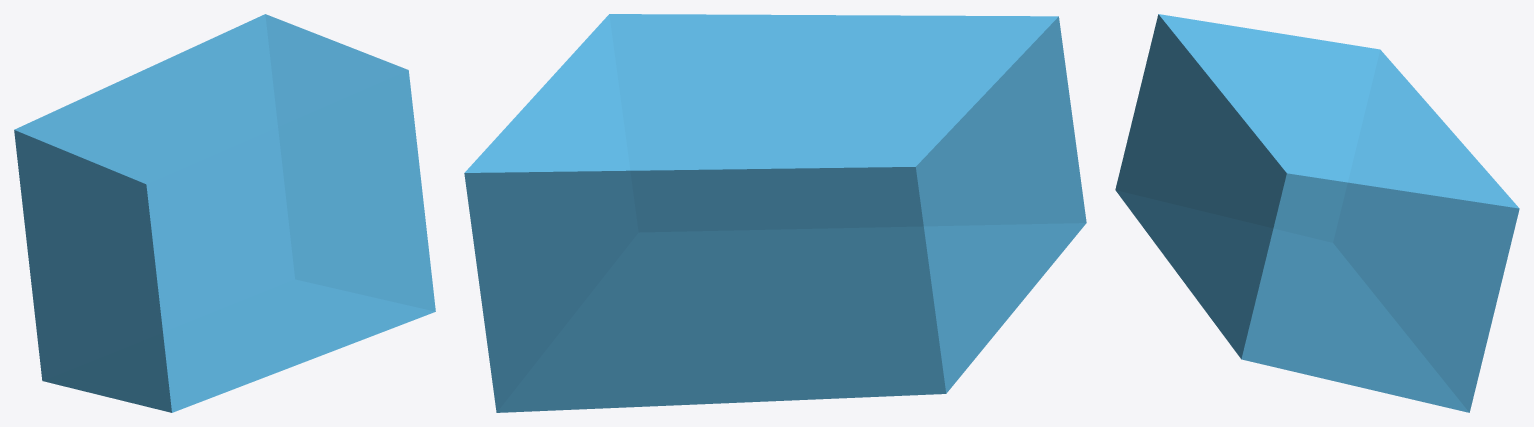
The model's file is Event_420604493_HErechit_38.fbx.
The picture shows the model from 3 angles, left to right: view 1: azimuth 30°, elevation 25°; view 2: azimuth 150°, elevation 25°; view 3: azimuth 270°, elevation 25°; orthographic projection. The views are drawn at different scales.
Parts seen in each view (by area): view 1: Model; view 2: Model; view 3: Model.
Boxes of the visible parts, box(x1,y1,x2,y2) form: Model: box(14, 14, 435, 412); Model: box(464, 14, 1086, 412); Model: box(1115, 14, 1519, 412).
Bounding box in the file's own units: 0.6341 × 0.5585 × 0.7809.
